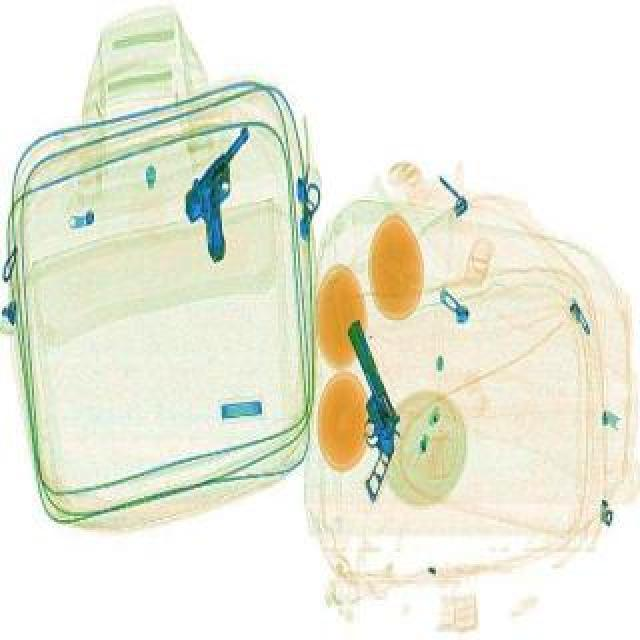gun: (306, 318, 426, 498), (158, 122, 302, 262)
